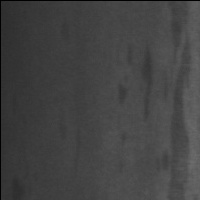inclusion: (160, 3, 194, 199), (133, 36, 158, 125), (67, 122, 86, 178), (111, 73, 132, 104)
